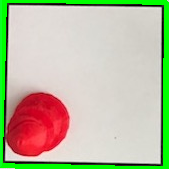Red Bishop: (5, 87, 73, 158)
